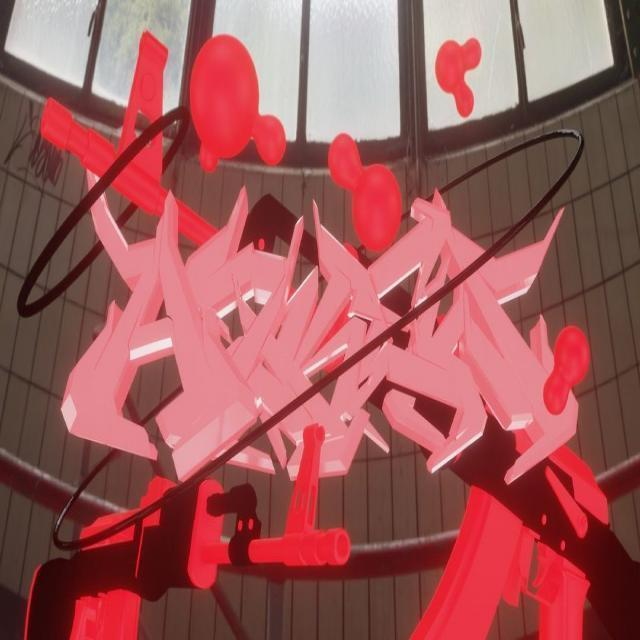nonspitting: (22, 34, 616, 640)
